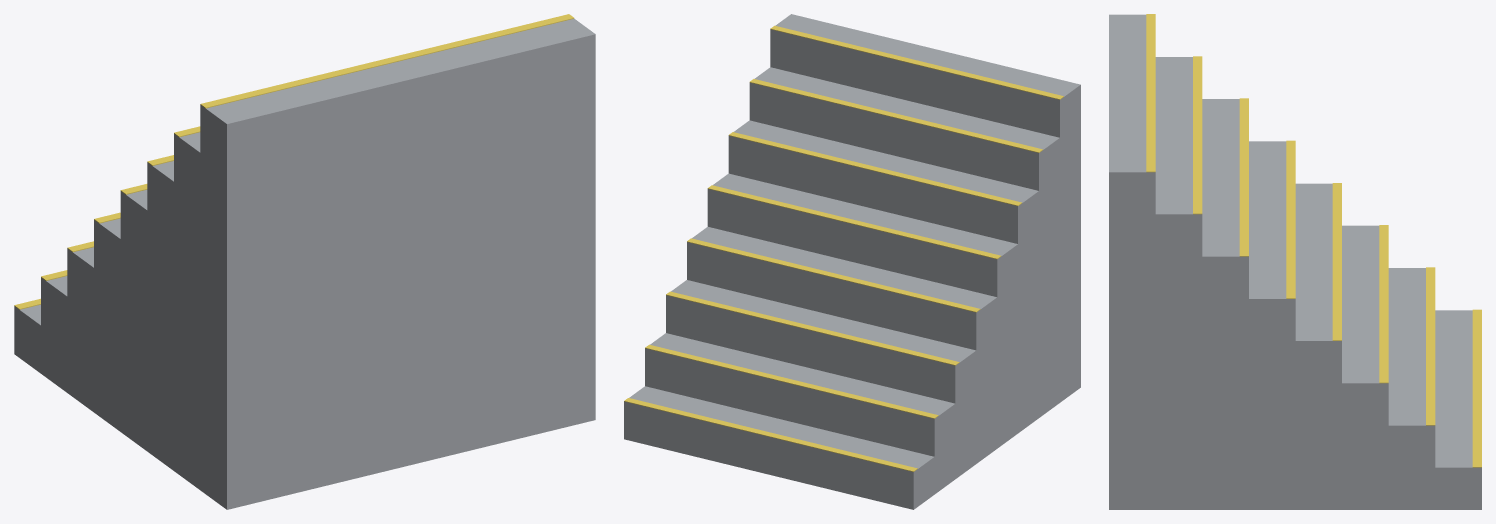
File: stairs.glb
3 renders of one model, left to right at view 1: azimuth 30°, elevation 25°; view 2: azimuth 150°, elevation 25°; view 3: azimuth 270°, elevation 25°, orthographic. The views are drawn at different scales.
Parts seen in each view (by area): view 1: Stairs; view 2: Stairs; view 3: Stairs.
Part boxes in pixels (<box>): Stairs: <box>14,14,595,509</box>; Stairs: <box>624,14,1080,509</box>; Stairs: <box>1109,14,1481,509</box>.
Bounding box in the file's own units: 2 × 2 × 2.
